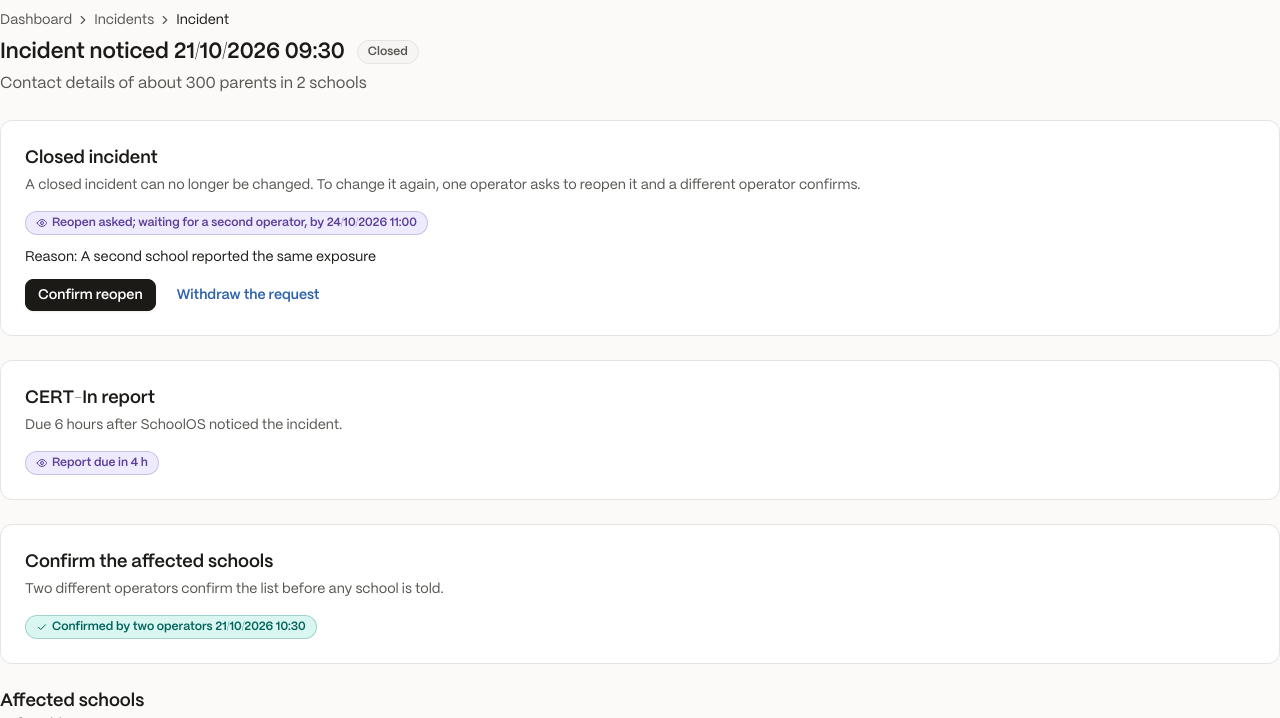
Scenario: a closed incident is locked; reopening takes two operators (D48) › a different operator confirms; a refusal is explained
Click the button "Confirm reopen" at (90, 295), box [25, 279, 156, 311]
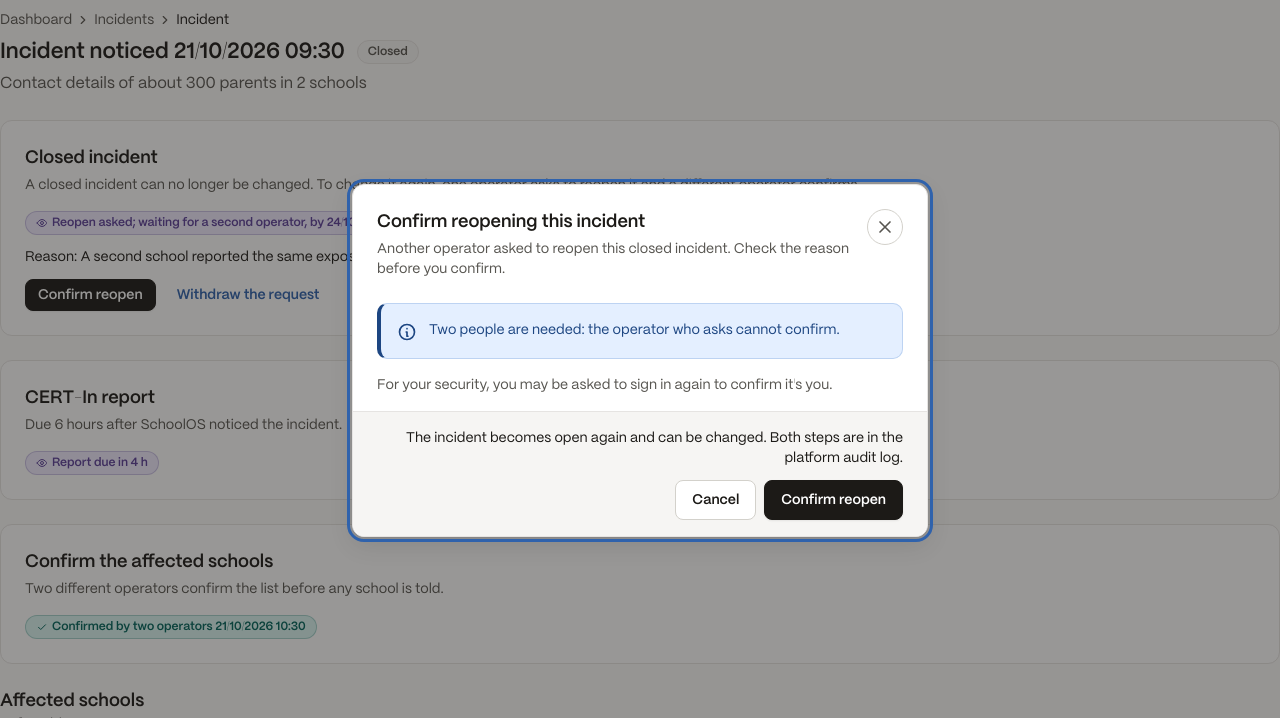
Click the button "Confirm reopen" below "Confirm reopening this incident" at (834, 500), box [764, 480, 903, 520]
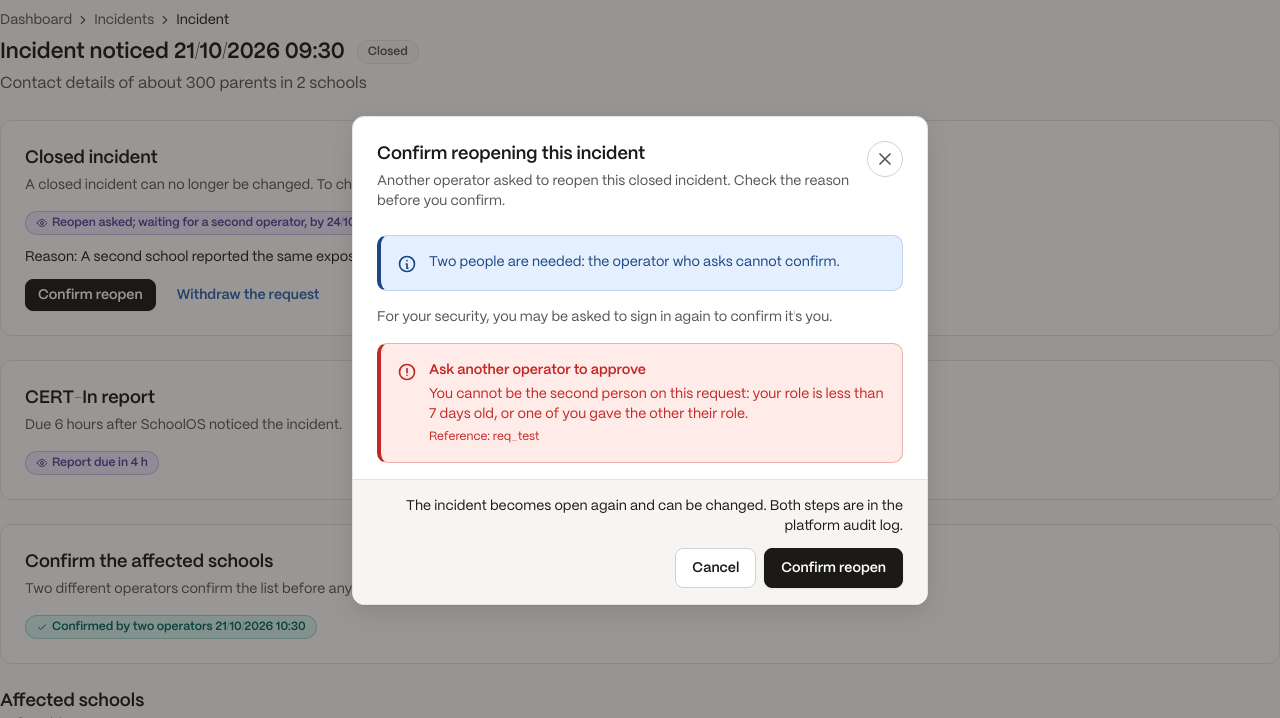
Now the text "Ask another operator to approve" is shown, box [429, 362, 646, 376]
